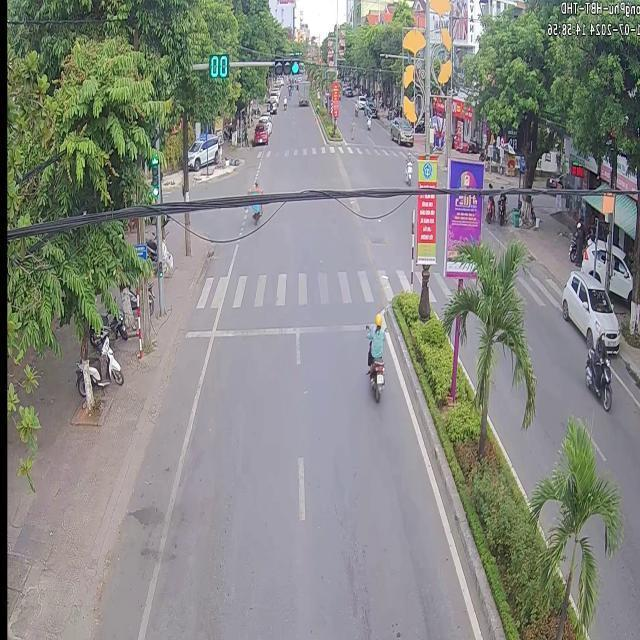car: (559, 269, 618, 351)
green_light: (207, 55, 229, 76), (272, 59, 299, 74), (152, 156, 159, 197)
motobike: (583, 347, 610, 409), (368, 356, 383, 399)
stop_line: (184, 321, 367, 337)
